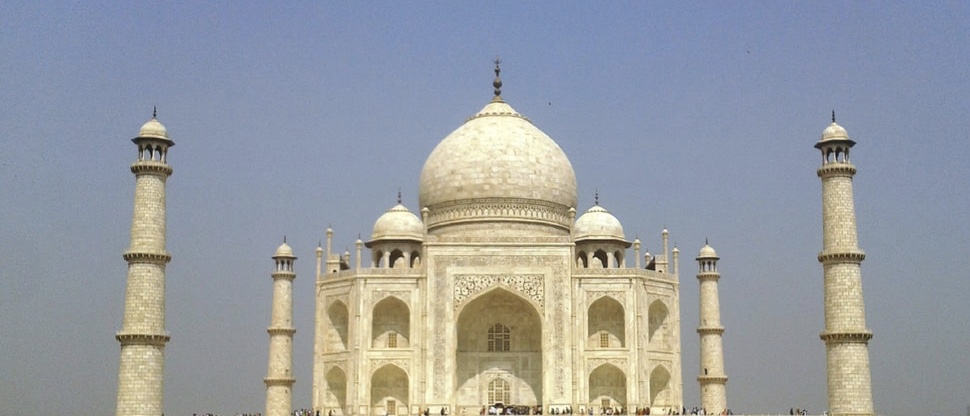Mosque: (109, 51, 883, 416)
